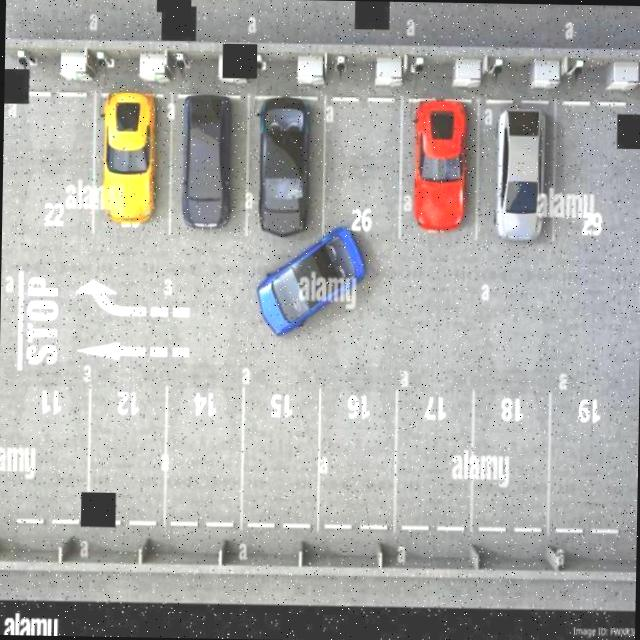empty: (0, 376, 91, 527), (319, 93, 404, 241), (314, 392, 400, 536), (162, 385, 246, 532), (391, 388, 476, 533), (20, 87, 100, 240), (548, 95, 628, 248), (86, 386, 170, 528), (238, 388, 321, 530), (471, 392, 554, 532), (545, 396, 626, 538)
occupied: (396, 94, 484, 248), (90, 90, 178, 240), (165, 88, 252, 239), (243, 90, 326, 242), (476, 95, 558, 246), (324, 241, 324, 242)
